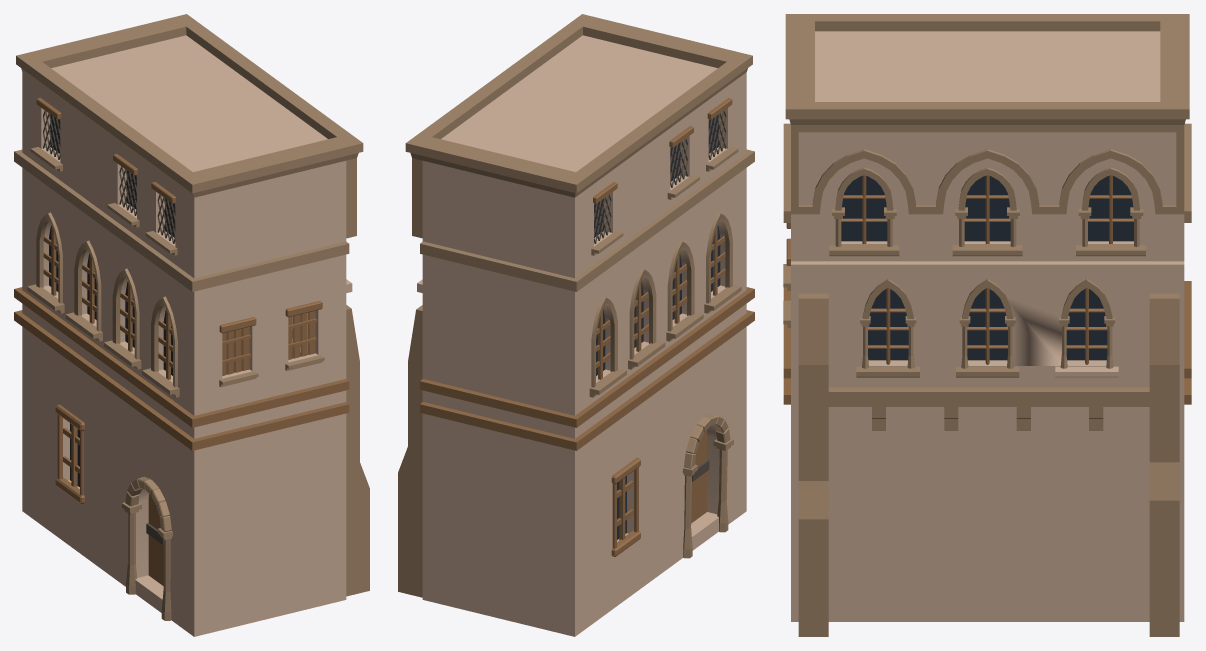
File: civilian_house_18_a.glb
The picture shows the model from 3 angles, left to right: view 1: azimuth 30°, elevation 25°; view 2: azimuth 150°, elevation 25°; view 3: azimuth 270°, elevation 25°; orthographic projection. The views are drawn at different scales.
Parts seen in each view (by area): view 1: civilian_house_18 _a; view 2: civilian_house_18 _a; view 3: civilian_house_18 _a.
Part boxes in pixels (<box>): civilian_house_18 _a: <box>14,14,369,636</box>; civilian_house_18 _a: <box>398,14,754,636</box>; civilian_house_18 _a: <box>783,14,1191,636</box>.
Bounding box in the file's own units: 6.34 × 14.6 × 10.38.
